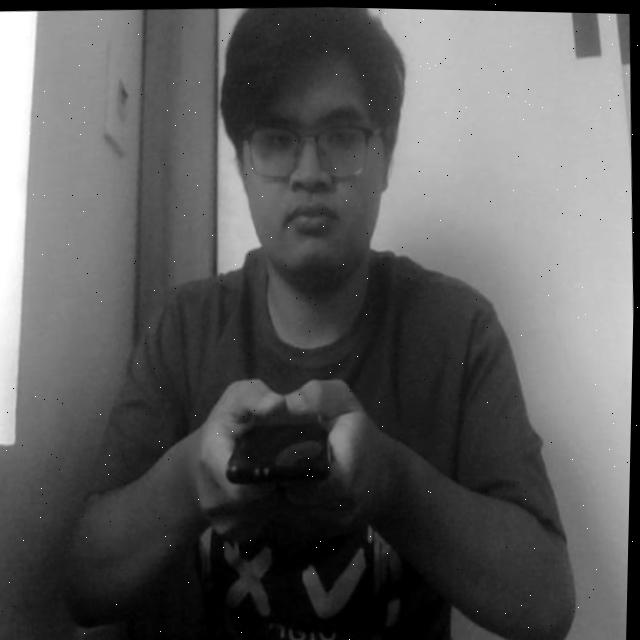phone: (219, 382, 360, 510)
